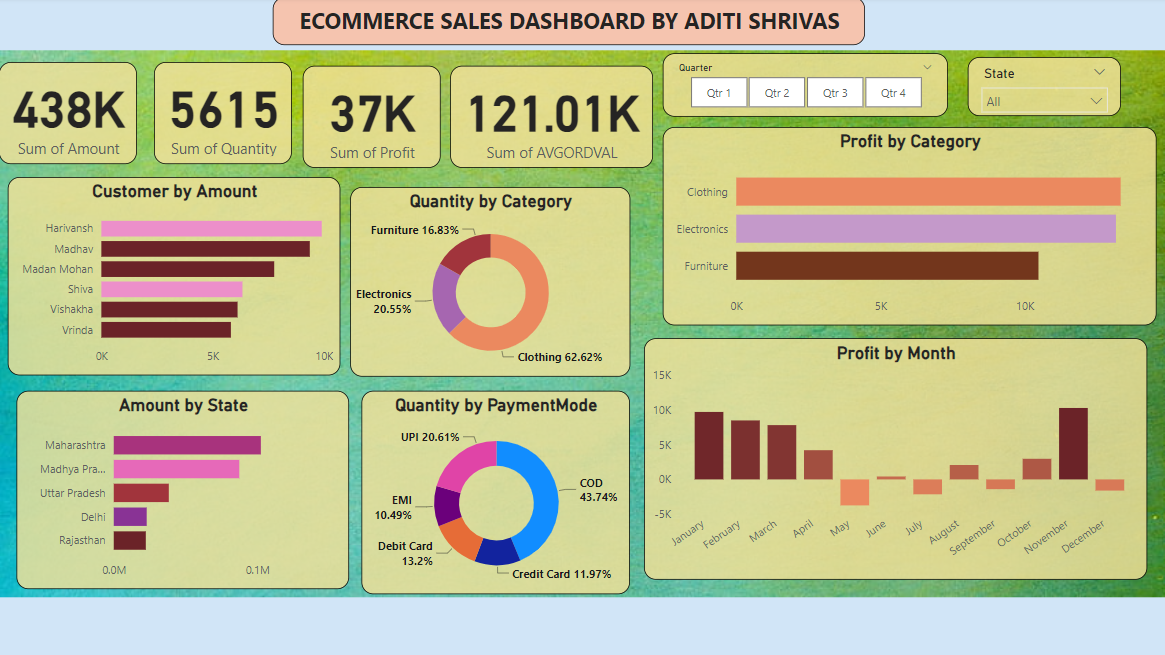

What the dashboard file says about the page in this screenshot:
{"tool":"powerbi","page":{"name":"Page 1","canvas":[1280,722],"ordinal":0},"visuals":[{"type":"textbox","box":[300.7,0,649.7,52.5],"z":0},{"type":"clusteredColumnChart","title":"Profit by Month","fields":{"Category":["Orders.Order Date.Variation.Date Hierarchy.Month"],"Y":["Details.Profit"]},"box":[707.3,374.9,551.7,264.5],"z":1000},{"type":"clusteredBarChart","title":"Profit by Category","fields":{"Y":["Details.Profit"],"Category":["Details.Category"]},"box":[728.5,142.9,541.8,217.8],"z":2000},{"type":"donutChart","title":"Quantity by Category","fields":{"Y":["Details.Quantity"],"Category":["Details.Category"]},"box":[384.8,207.9,307,207.9],"z":3000},{"type":"donutChart","title":"Quantity by PaymentMode","fields":{"Y":["Details.Quantity"],"Series":["Details.PaymentMode"]},"box":[397.5,431.4,294.2,223.5],"z":4000},{"type":"card","fields":{"Values":["Details.Amount"]},"box":[0,70.7,151.4,111.7],"z":5000},{"type":"card","fields":{"Values":["Details.Profit"]},"box":[333.8,75,151.4,111.7],"z":6000},{"type":"card","fields":{"Values":["Details.Quantity"]},"box":[169.7,70.7,151.4,111.7],"z":7000},{"type":"card","fields":{"Values":["Details.AVGORDVAL"]},"box":[495.1,75,222.1,111.7],"z":8000},{"type":"clusteredBarChart","title":"Amount by State","fields":{"Category":["Orders.State"],"Y":["Details.Amount"]},"box":[19.8,431.4,365,217.8],"z":9000},{"type":"clusteredBarChart","title":"Customer by Amount","fields":{"Category":["Orders.CustomerName"],"Y":["Details.Amount"]},"box":[9.9,198,365,217.8],"z":10000},{"type":"slicer","fields":{"Values":["Orders.Order Date.Variation.Date Hierarchy.Quarter"]},"box":[728.5,62.2,312.6,69.3],"z":11000},{"type":"slicer","fields":{"Values":["Orders.State"]},"box":[1062.3,66.5,168.3,65.1],"z":12000}]}

Visuals, with their boxes in screenshot pixels (x1, y1, x2, y2), scaled from the page's 1280x722 canvas onto the 1165x655 screenshot:
textbox: box(274, 0, 865, 48)
"Profit by Month" clusteredColumnChart: box(644, 340, 1146, 580)
"Profit by Category" clusteredBarChart: box(663, 130, 1156, 327)
"Quantity by Category" donutChart: box(350, 189, 630, 377)
"Quantity by PaymentMode" donutChart: box(362, 391, 630, 594)
card - Details.Amount: box(0, 64, 138, 165)
card - Details.Profit: box(304, 68, 442, 169)
card - Details.Quantity: box(154, 64, 292, 165)
card - Details.AVGORDVAL: box(451, 68, 653, 169)
"Amount by State" clusteredBarChart: box(18, 391, 350, 589)
"Customer by Amount" clusteredBarChart: box(9, 180, 341, 377)
slicer - Orders.Order Date.Variation.Date Hierarchy.Quarter: box(663, 56, 948, 119)
slicer - Orders.State: box(967, 60, 1120, 119)
